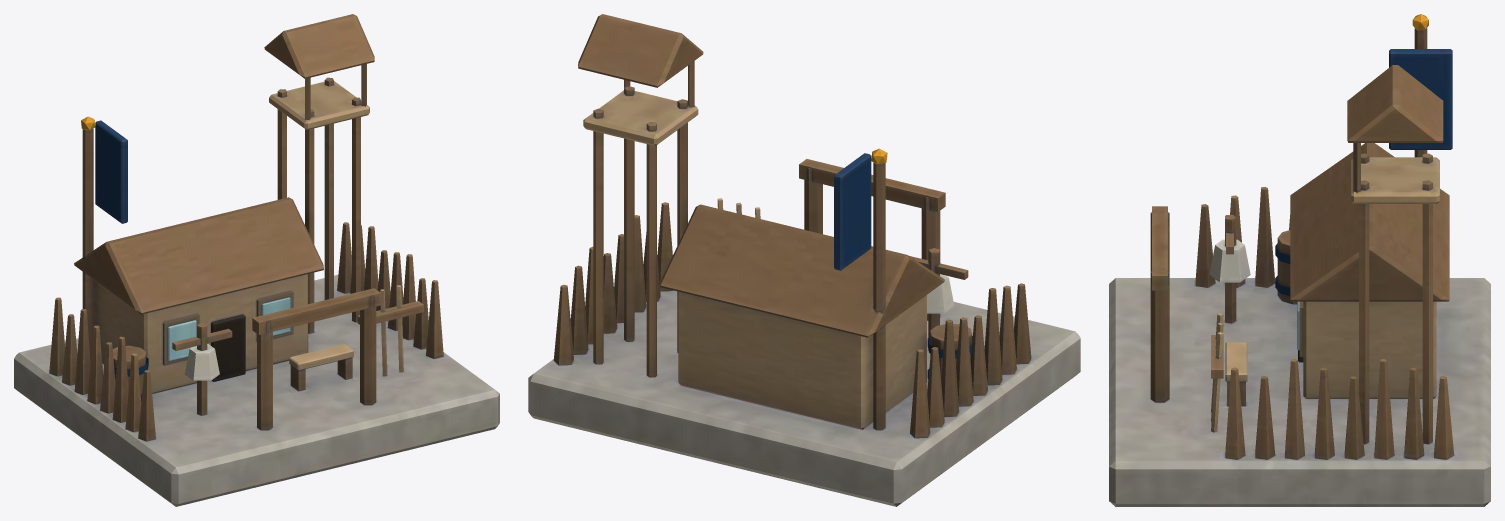
Rendered from barracks-5.glb.
3 renders of one model, left to right at view 1: azimuth 30°, elevation 25°; view 2: azimuth 150°, elevation 25°; view 3: azimuth 270°, elevation 25°, orthographic. The views are drawn at different scales.
Parts seen in each view (by area): view 1: barracks-5; view 2: barracks-5; view 3: barracks-5.
Boxes of the visible parts, left/top/right/bottom form: barracks-5: left=14, top=14, right=499, bottom=506; barracks-5: left=528, top=14, right=1080, bottom=506; barracks-5: left=1109, top=14, right=1490, bottom=506.
Size of the model in its own units: 1.4 by 1.35 by 1.2.
Materials: 1 (1 with a texture image).
